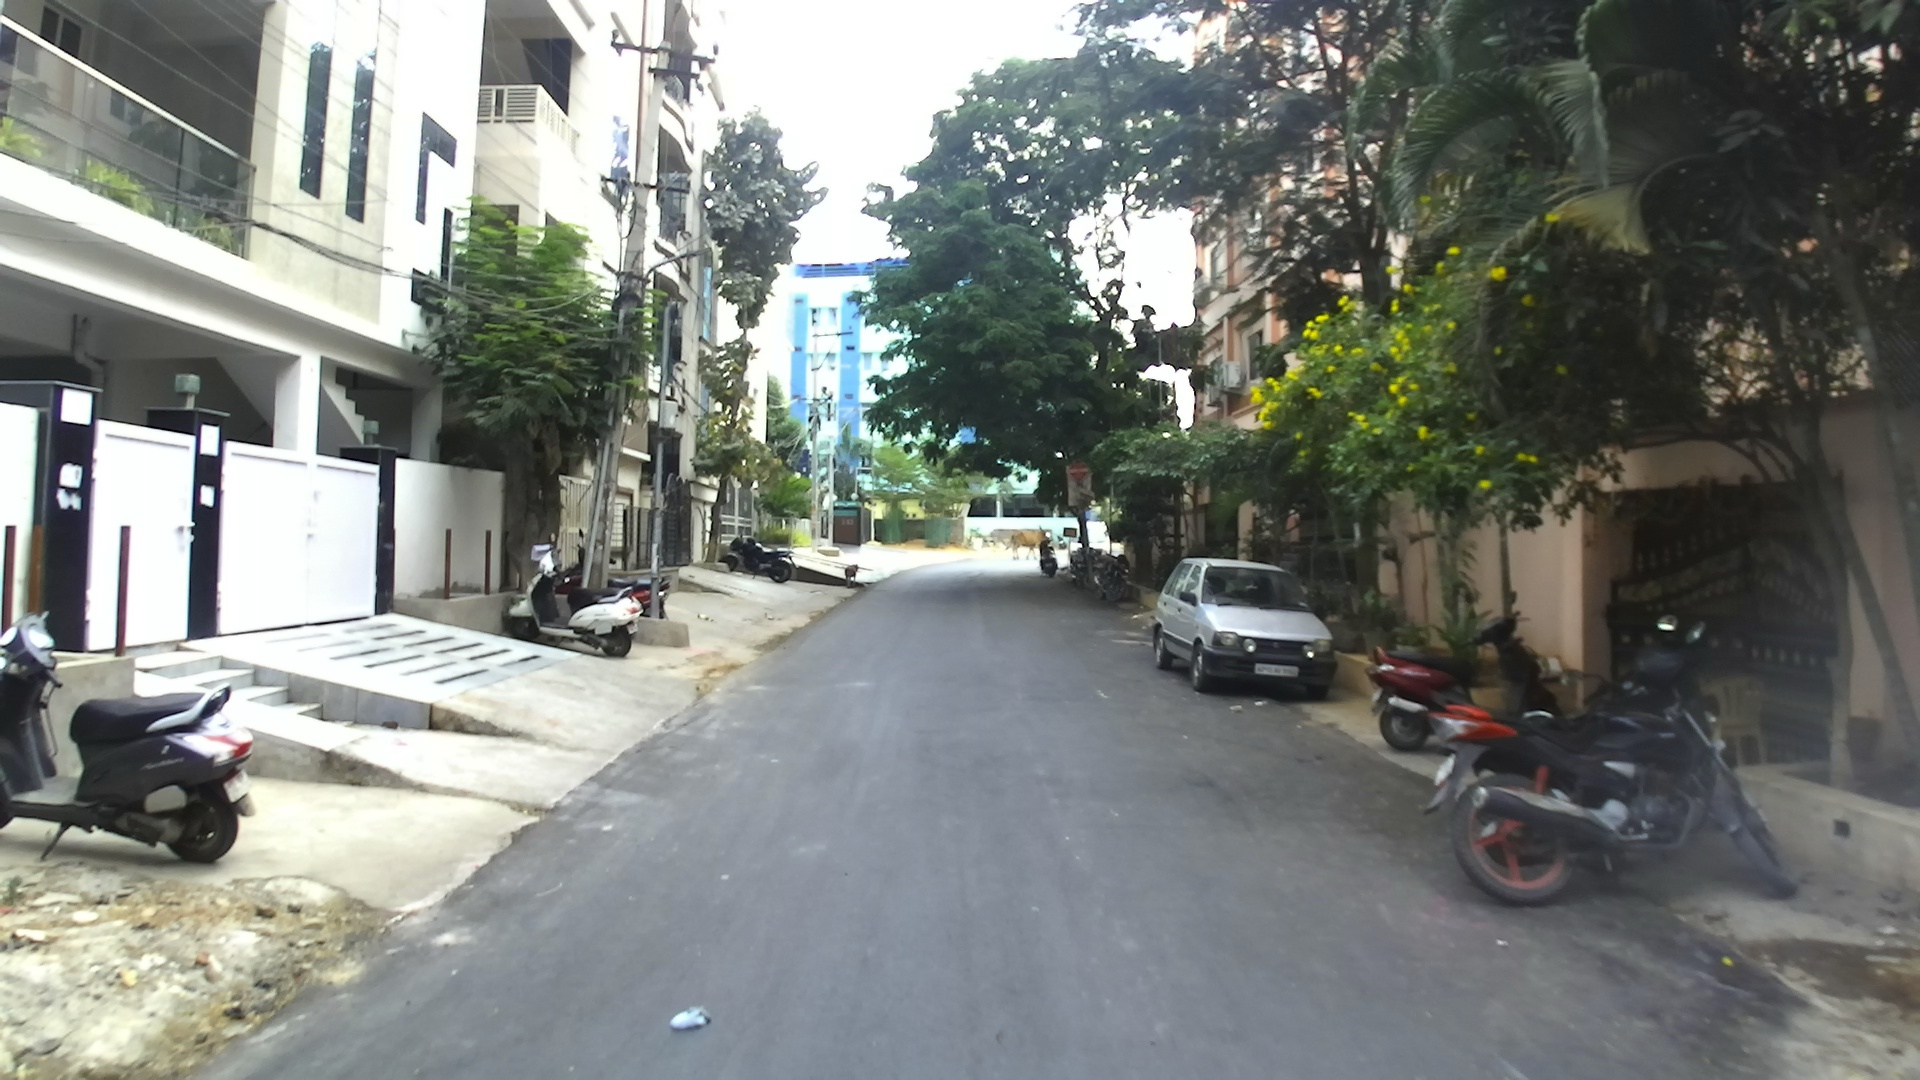vehicle: (1404, 617, 1799, 909), (0, 611, 258, 862), (3, 680, 257, 865), (1153, 556, 1338, 699)
